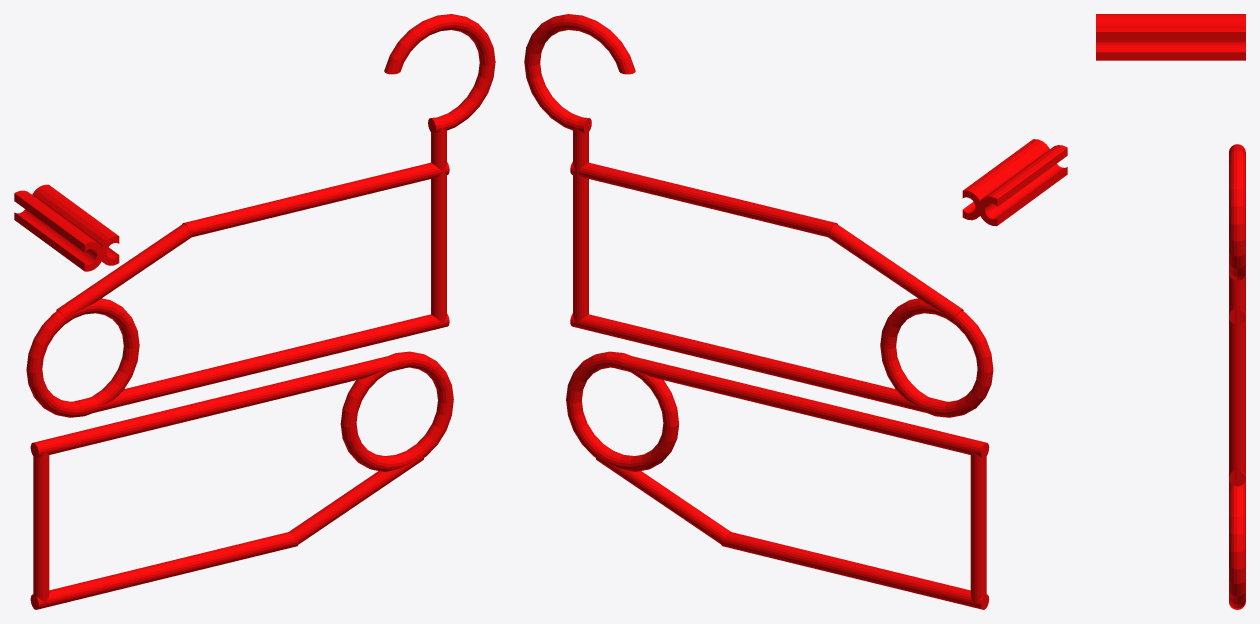
File: fold.glb
3 renders of one model, left to right at view 1: azimuth 30°, elevation 25°; view 2: azimuth 150°, elevation 25°; view 3: azimuth 270°, elevation 25°, orthographic. The views are drawn at different scales.
Parts seen in each view (by area): view 1: entity_2; view 2: entity_2; view 3: entity_2.
Part boxes in pixels (bbox=[...]): entity_2: bbox=[14, 14, 495, 609]; entity_2: bbox=[524, 14, 1067, 609]; entity_2: bbox=[1096, 14, 1245, 609].
Size of the model in its own units: 137 by 136 by 35.
